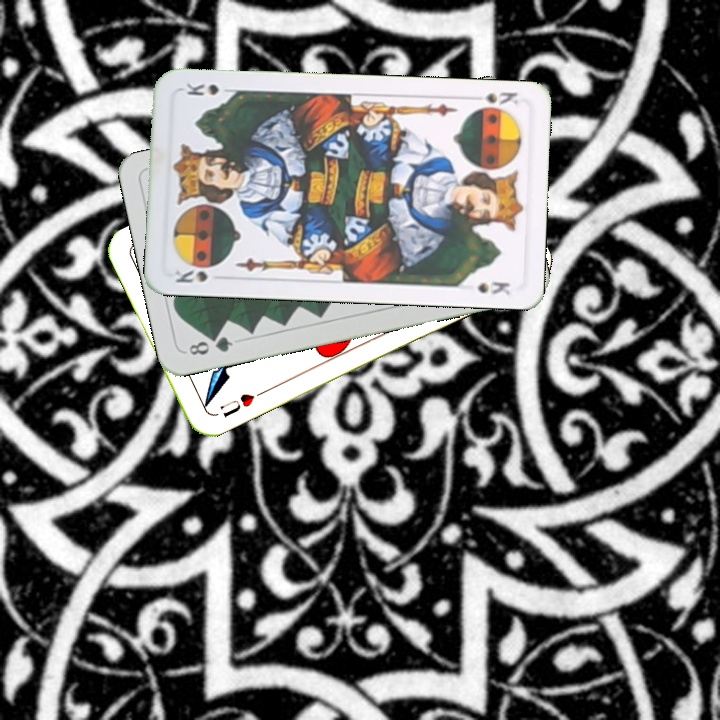G8: (184, 332, 236, 358)
HU: (216, 389, 258, 420)
SK: (466, 87, 521, 114), (171, 265, 228, 286)
